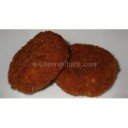cutlet: (9, 33, 67, 89), (65, 40, 120, 96)
